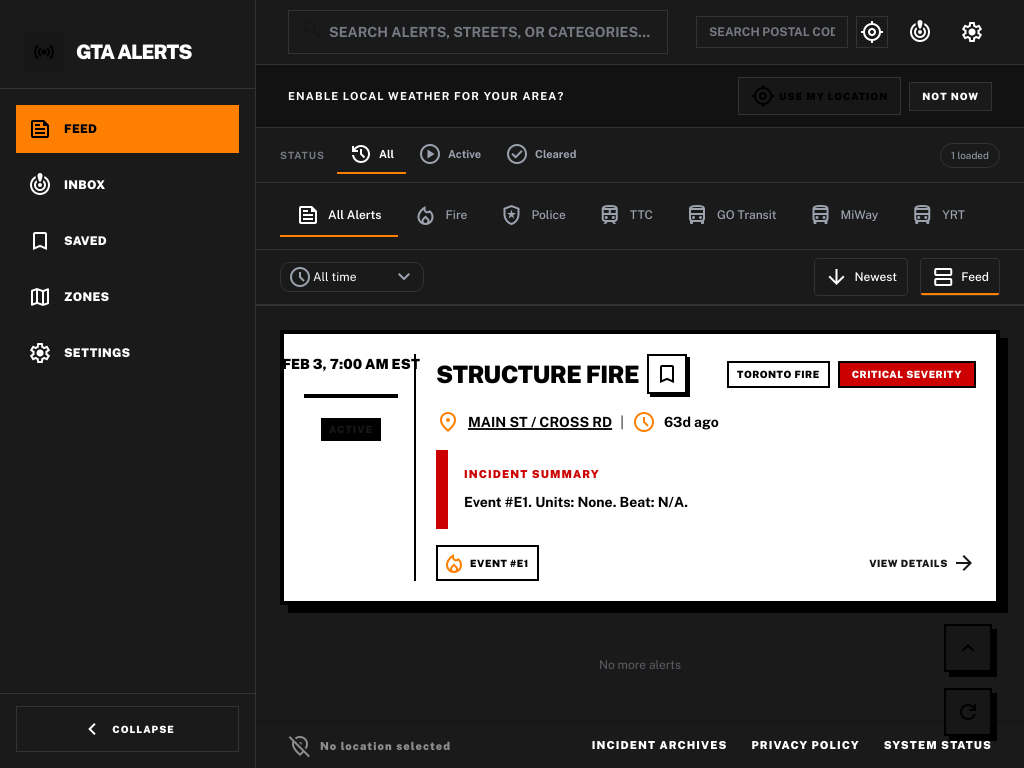
Test: GTA Alerts App (typed domain enforcement boundary) › shows a saved-alert action toast for guest saves
Click the button named "Save alert". click: (667, 374)
box: [647, 354, 687, 394]
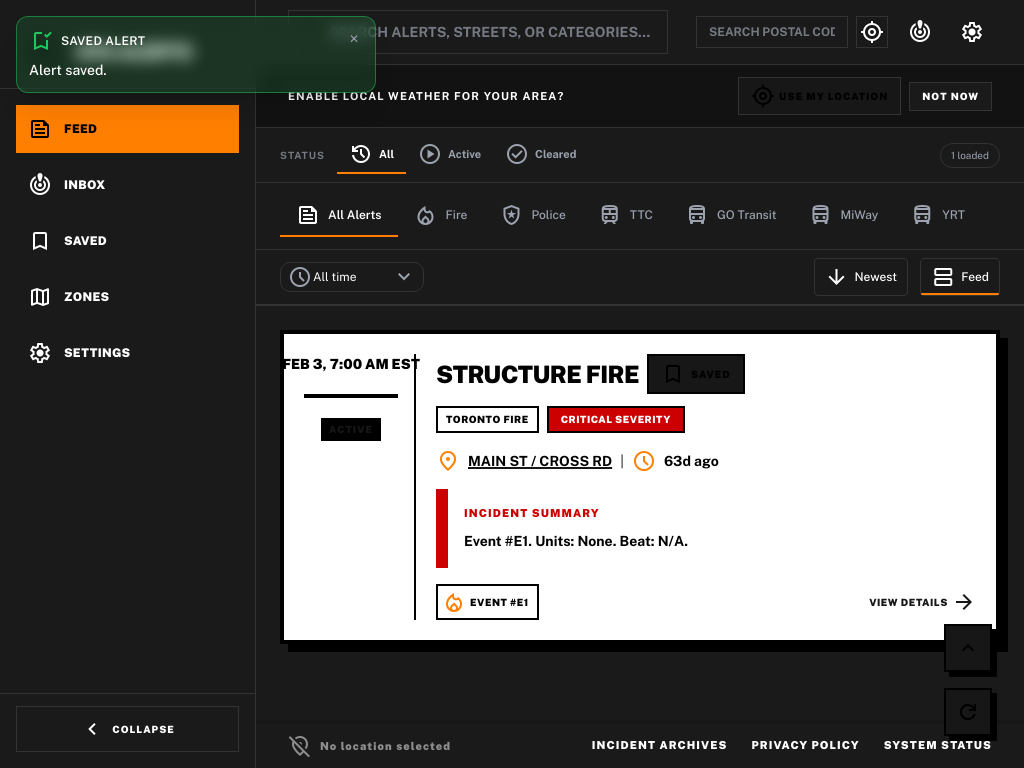
Check: the text "Alert saved." is shown, box [29, 62, 107, 78]
Check: the text "Saved Alert" is shown, box [61, 33, 145, 49]
